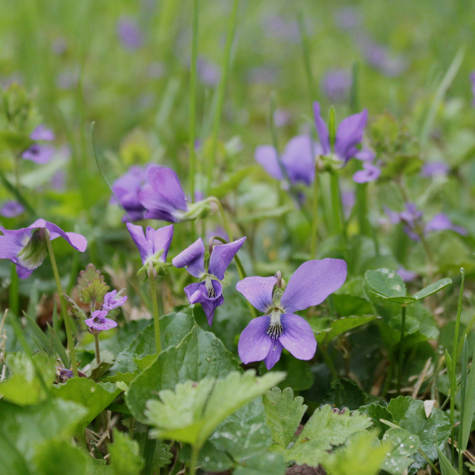violet: (233, 250, 365, 371), (111, 151, 220, 223), (174, 244, 248, 321)
